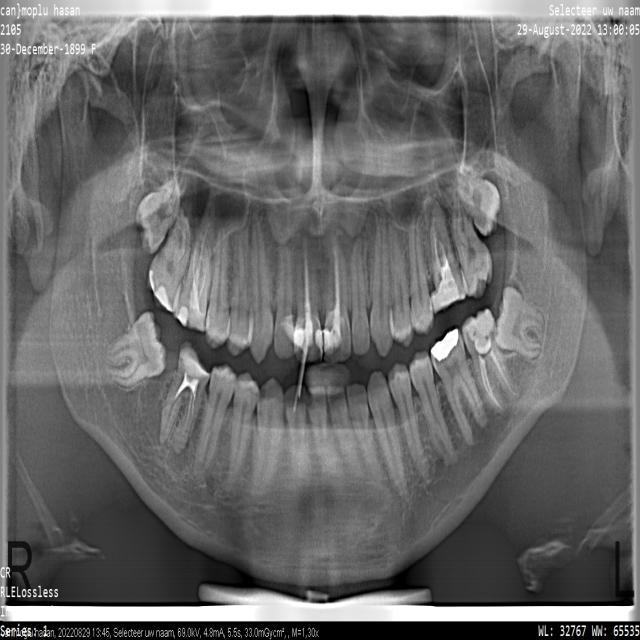Canine: (368, 371, 405, 495), (251, 379, 284, 496), (249, 211, 273, 363), (370, 208, 394, 357)
Incisores: (346, 384, 383, 489), (293, 236, 322, 361), (327, 387, 366, 478), (324, 234, 351, 362), (285, 386, 310, 480), (351, 234, 369, 355), (274, 247, 293, 359), (308, 386, 329, 470)
Premolars: (193, 364, 236, 479), (409, 352, 453, 461), (389, 364, 427, 480), (226, 214, 253, 355), (228, 373, 259, 494), (389, 213, 414, 346), (409, 213, 434, 335), (205, 228, 229, 348)
molars: (431, 331, 490, 444), (462, 309, 519, 413), (161, 343, 211, 453), (106, 312, 167, 387), (147, 209, 191, 312), (430, 200, 468, 314), (452, 193, 492, 297), (173, 229, 211, 332), (494, 287, 543, 360), (136, 173, 179, 253), (458, 165, 501, 235)
